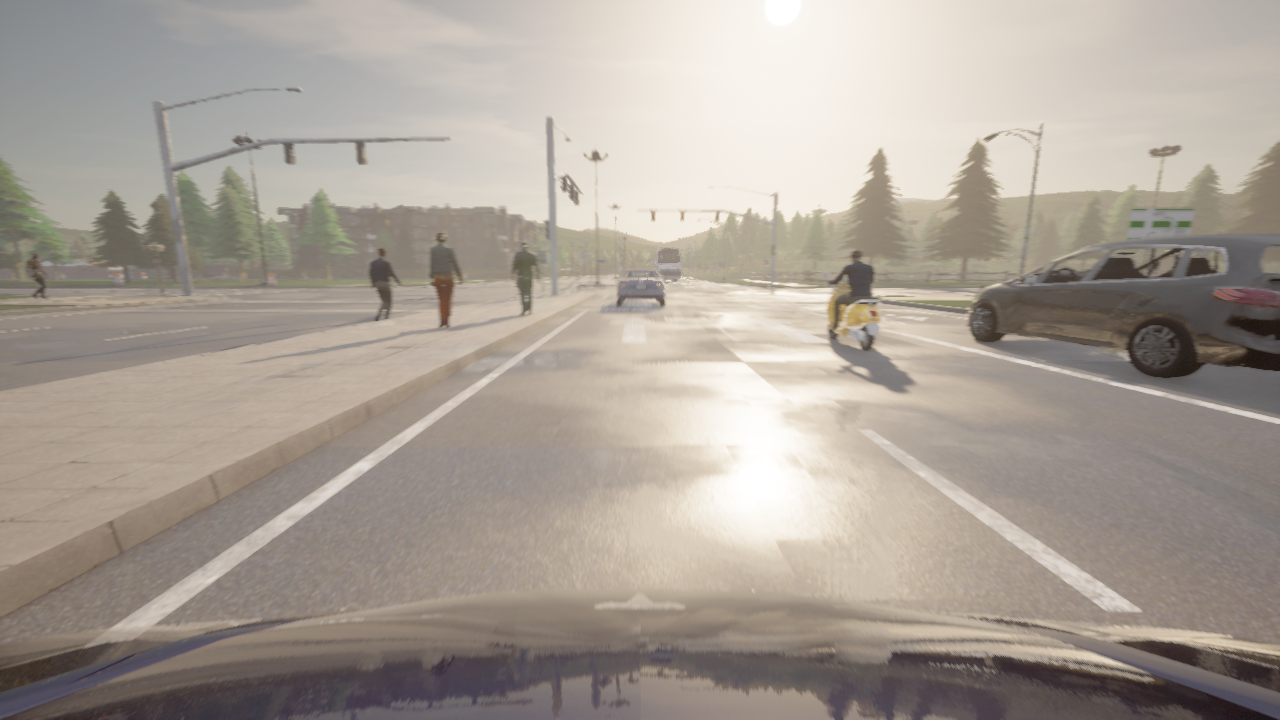cyclist: (0, 588, 1279, 719), (966, 233, 1279, 378), (823, 271, 882, 351), (616, 268, 665, 306), (650, 249, 679, 281)
pedestrian: (429, 233, 462, 328), (368, 247, 403, 322), (511, 240, 539, 315), (26, 253, 49, 299), (515, 277, 518, 295)
